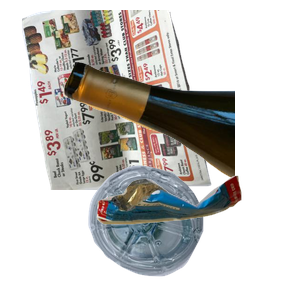glass: (60, 59, 300, 231)
paper: (19, 10, 223, 190)
plastic: (86, 163, 282, 300)
trash: (94, 173, 300, 300)
